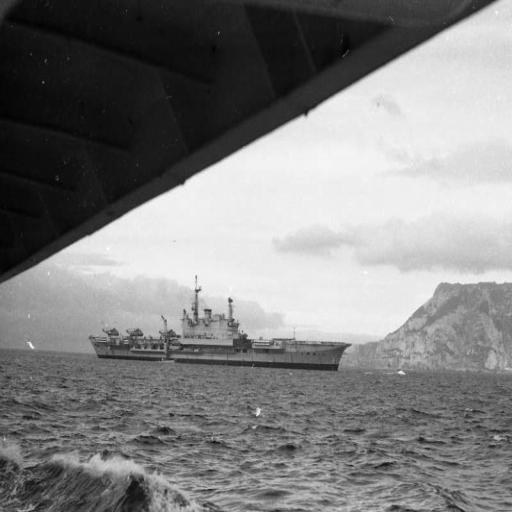Portanaves: (88, 269, 357, 375)
